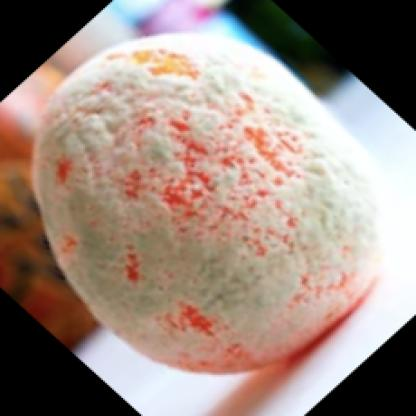rotten: (33, 32, 377, 370)
